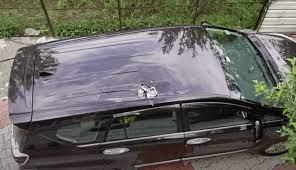roof-dent: (84, 26, 208, 131)
